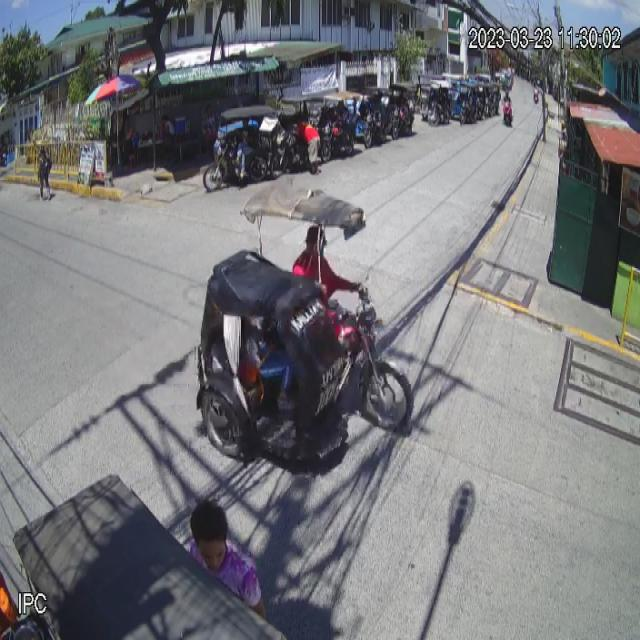Tricycle: (196, 176, 416, 469)
